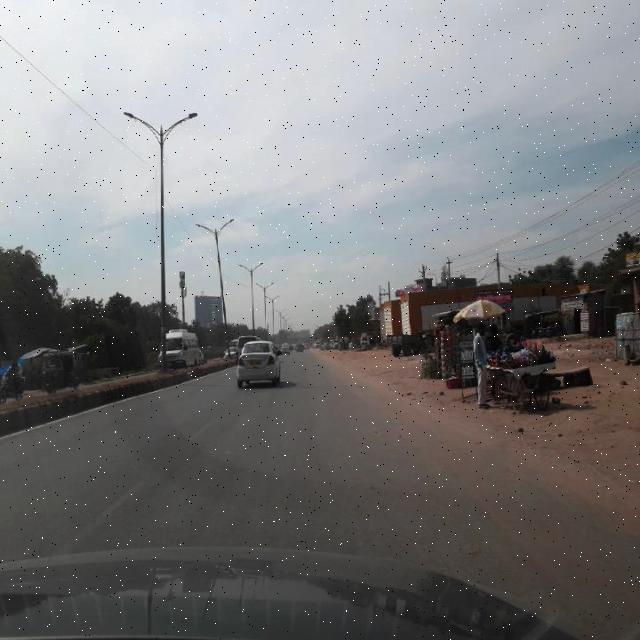D44: (78, 463, 158, 545)
